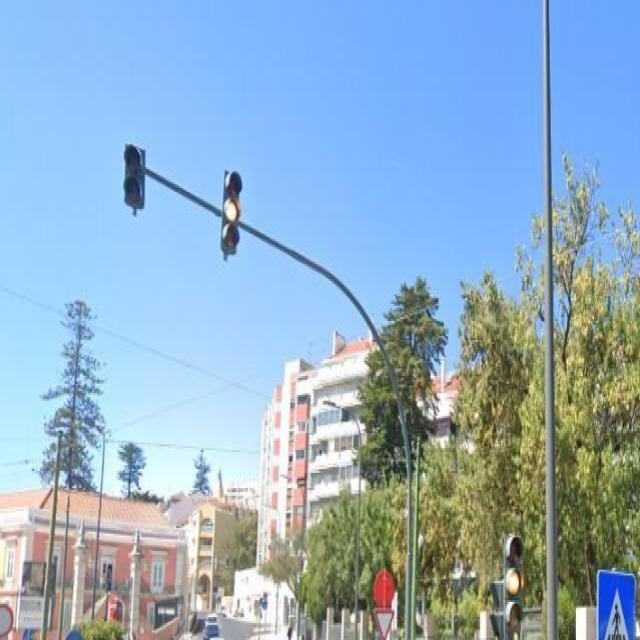yellow_light: (219, 170, 243, 260), (503, 531, 521, 632)
